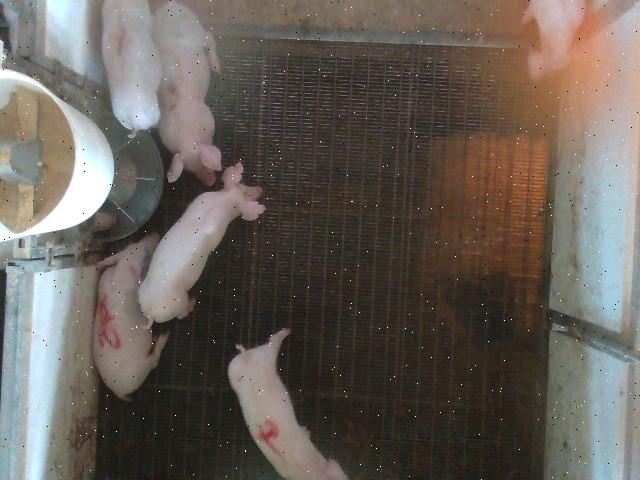pig-1: (102, 1, 162, 136)
pig-3: (154, 2, 221, 185)
pig-4: (228, 329, 347, 480)
pig-5: (94, 234, 169, 400)
